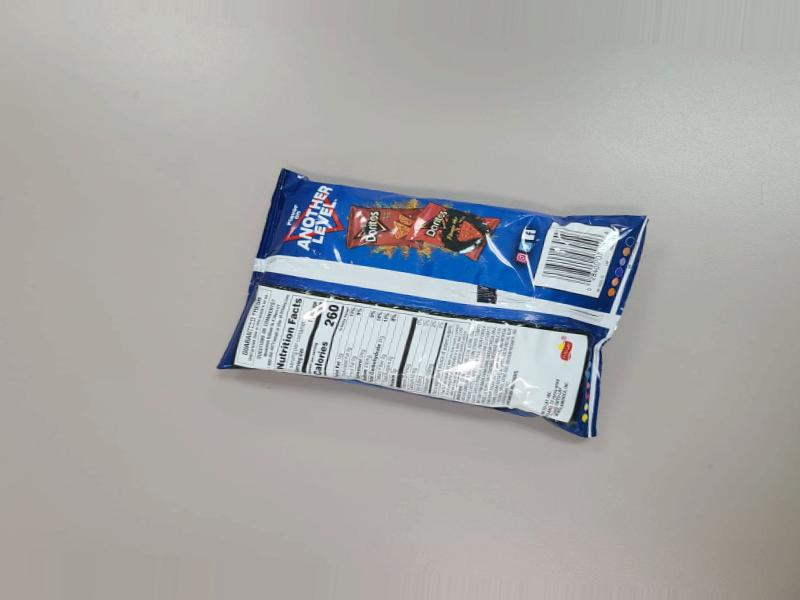doritos: (207, 164, 639, 451)
